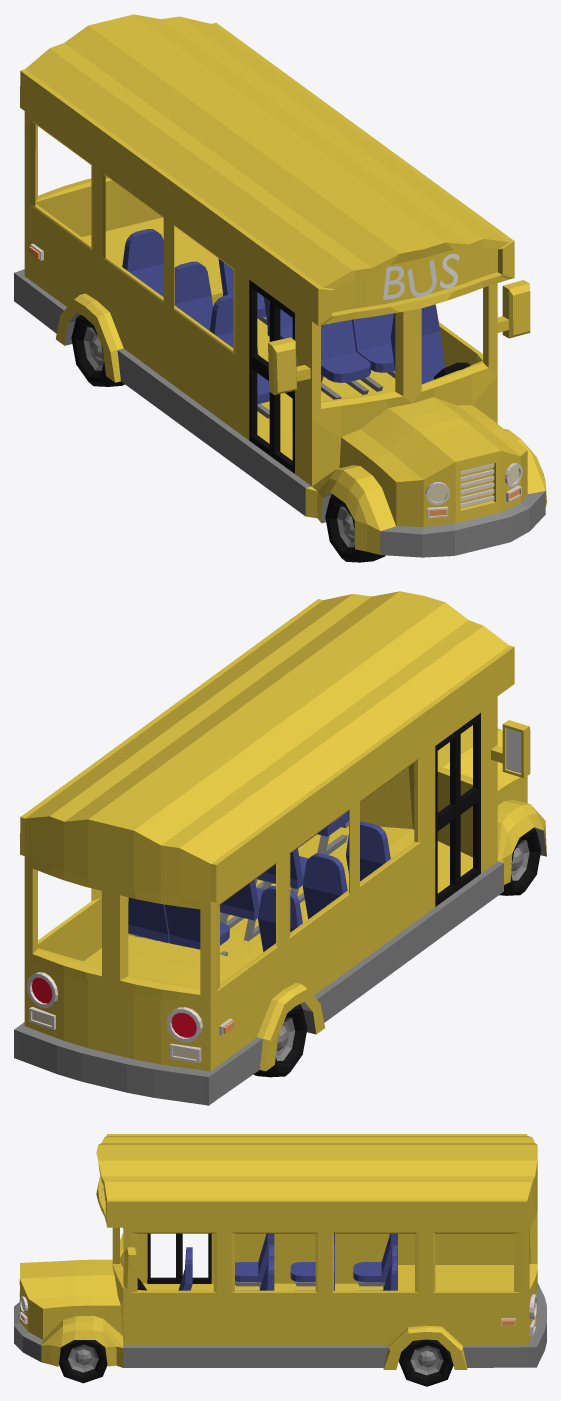
Rendered from Bus.fbx.
The picture shows the model from 3 angles, top to bottom: view 1: azimuth 30°, elevation 25°; view 2: azimuth 150°, elevation 25°; view 3: azimuth 270°, elevation 25°; orthographic projection. The views are drawn at different scales.
Parts seen in each view (by area): view 1: Bus, Door, Wheel; view 2: Bus, Door, Wheel; view 3: Bus, Wheel, Door.
Part boxes in pixels (left/top/right/bottom): Bus: left=14, top=14, right=546, bottom=557; Door: left=249, top=280, right=294, bottom=473; Wheel: left=71, top=315, right=385, bottom=562; Bus: left=14, top=591, right=546, bottom=1105; Door: left=435, top=713, right=480, bottom=906; Wheel: left=253, top=827, right=541, bottom=1077; Bus: left=14, top=1134, right=546, bottom=1369; Wheel: left=59, top=1339, right=453, bottom=1386; Door: left=147, top=1233, right=211, bottom=1283.
Size of the model in its own units: 452 by 482 by 1151.
